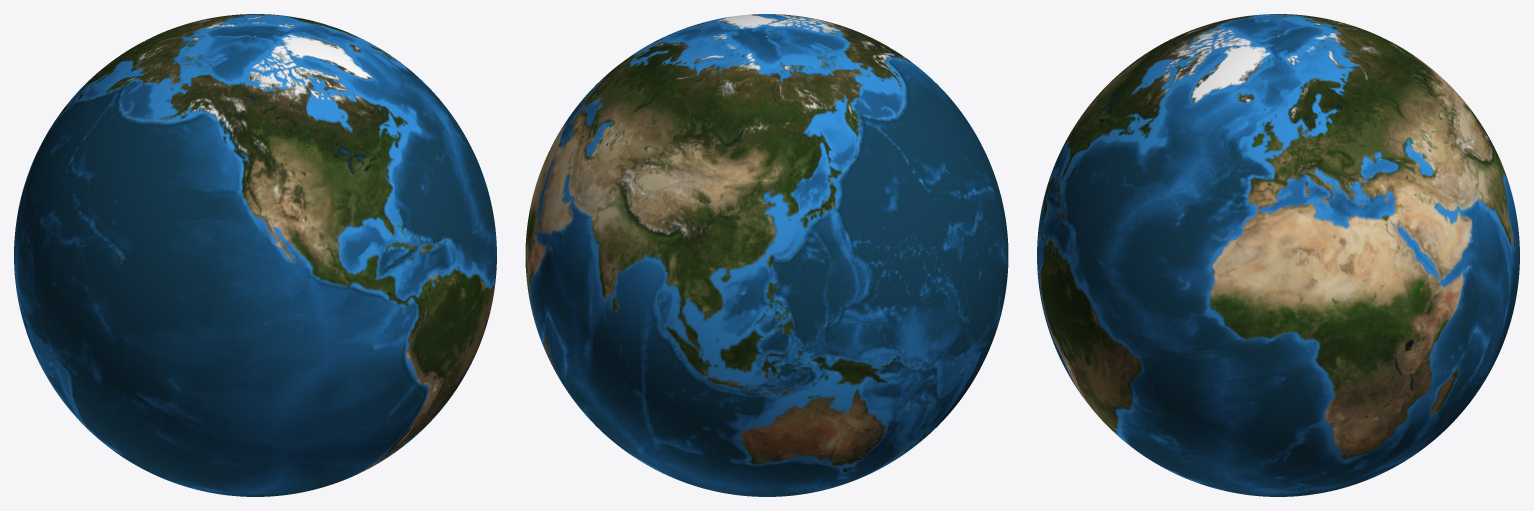
File: earth.glb
The picture shows the model from 3 angles, left to right: view 1: azimuth 30°, elevation 25°; view 2: azimuth 150°, elevation 25°; view 3: azimuth 270°, elevation 25°; orthographic projection.
Visible parts, largest first — view 1: Earth Patch 12, Earth Patch 17, Earth Patch 08, Earth Patch 18, Earth Patch 13, Earth Patch 07, Earth Patch 16, Earth Patch 03, Earth Patch 11, Earth Patch 01, Earth Patch 19, Earth Patch 20 (+1 smaller); view 2: Earth Patch 14, Earth Patch 19, Earth Patch 09, Earth Patch 18, Earth Patch 13, Earth Patch 10, Earth Patch 20, Earth Patch 04, Earth Patch 15, Earth Patch 05, Earth Patch 17, Earth Patch 16 (+1 smaller); view 3: Earth Patch 06, Earth Patch 11, Earth Patch 15, Earth Patch 16, Earth Patch 20, Earth Patch 02, Earth Patch 07, Earth Patch 10, Earth Patch 17, Earth Patch 19, Earth Patch 01, Earth Patch 05 (+3 smaller).
Boxes of the visible parts, box(x1,y1,x2,y2) form: Earth Patch 12: box(167, 217, 416, 441); Earth Patch 17: box(168, 36, 416, 240); Earth Patch 08: box(67, 242, 300, 454); Earth Patch 18: box(40, 36, 254, 242); Earth Patch 13: box(17, 147, 166, 397); Earth Patch 07: box(301, 220, 482, 445); Earth Patch 16: box(256, 30, 461, 216); Earth Patch 03: box(68, 398, 299, 496); Earth Patch 11: box(415, 126, 496, 346); Earth Patch 01: box(278, 389, 456, 495); Earth Patch 19: box(40, 15, 255, 148); Earth Patch 20: box(236, 14, 390, 55); Earth Patch 14: box(606, 217, 854, 441); Earth Patch 19: box(607, 36, 854, 242); Earth Patch 09: box(722, 242, 954, 454); Earth Patch 18: box(767, 36, 981, 238); Earth Patch 13: box(854, 148, 1004, 398); Earth Patch 10: box(539, 220, 721, 445); Earth Patch 20: box(560, 30, 766, 220); Earth Patch 04: box(722, 401, 952, 496); Earth Patch 15: box(525, 126, 605, 346); Earth Patch 05: box(567, 391, 743, 495); Earth Patch 17: box(767, 15, 980, 145); Earth Patch 16: box(633, 14, 786, 54); Earth Patch 06: box(1151, 251, 1405, 457); Earth Patch 11: box(1069, 184, 1277, 426); Earth Patch 15: box(1278, 186, 1488, 426); Earth Patch 16: box(1074, 36, 1280, 250); Earth Patch 20: box(1276, 36, 1484, 246); Earth Patch 02: box(1151, 426, 1404, 496); Earth Patch 07: box(1037, 187, 1151, 428); Earth Patch 10: box(1406, 187, 1519, 427); Earth Patch 17: box(1068, 21, 1277, 187); Earth Patch 19: box(1279, 21, 1488, 183); Earth Patch 01: box(1085, 400, 1201, 484); Earth Patch 05: box(1355, 400, 1471, 484).
Size of the model in its own units: 2 by 2 by 2.
Materials: 1 (1 with a texture image).
